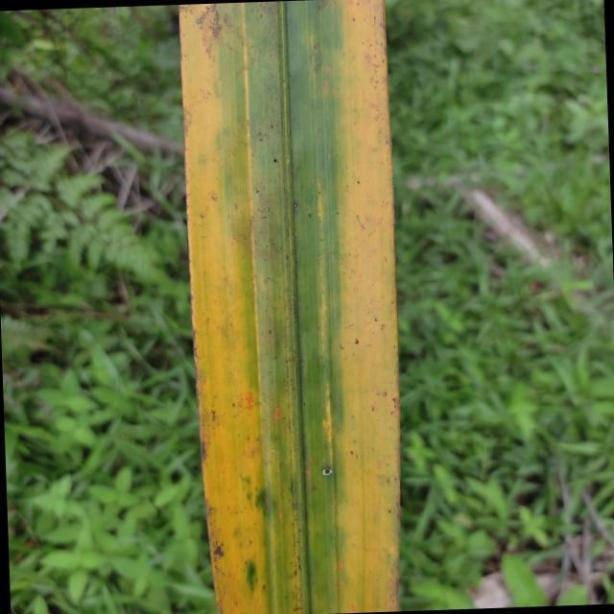Megnesium: (180, 3, 401, 614)
